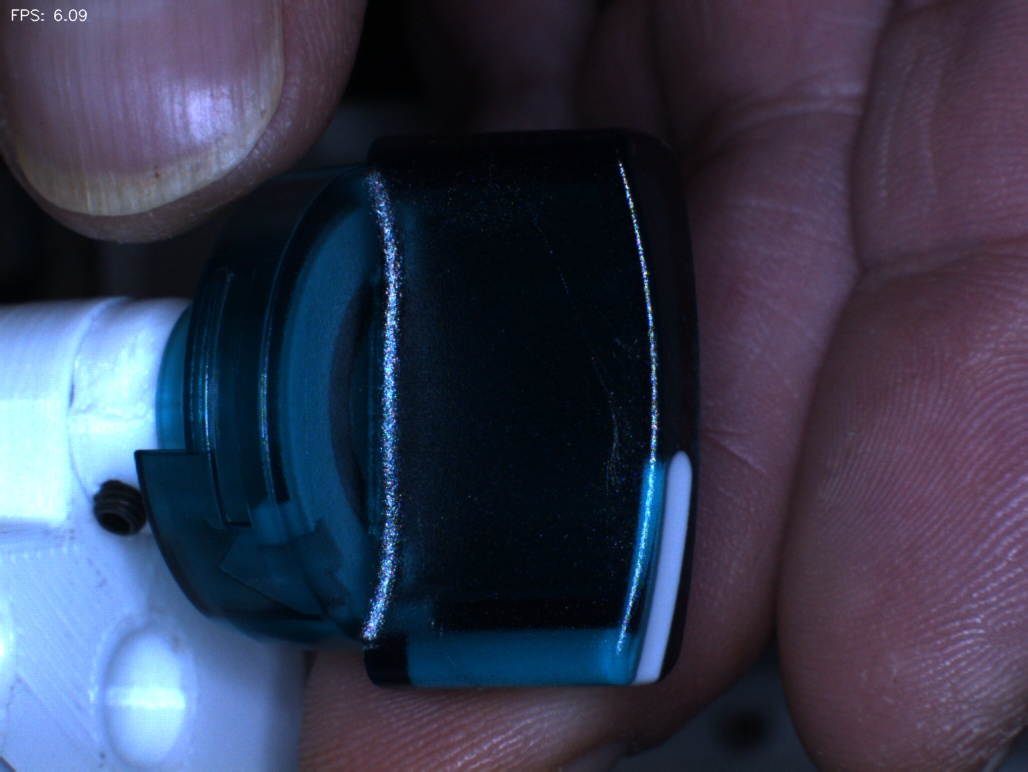Givrage: (541, 240, 652, 496)
